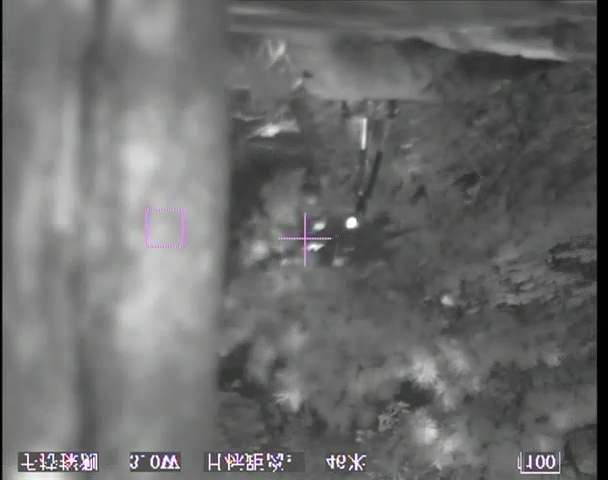my: (344, 216, 357, 229)
